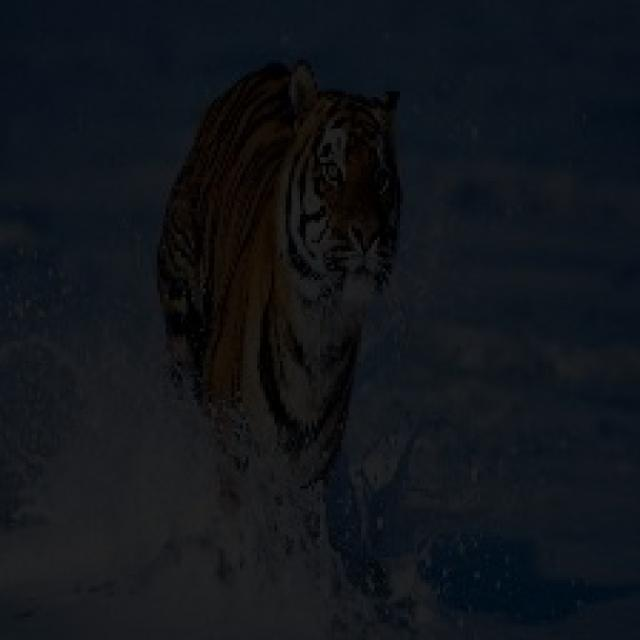animal: (165, 54, 436, 582)
